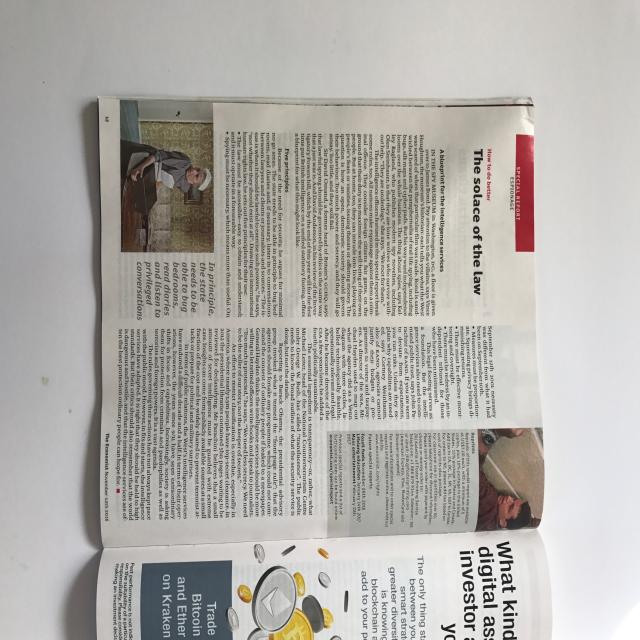paper: (5, 39, 640, 640)
